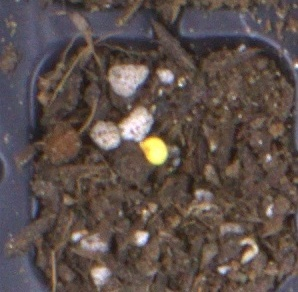chilli seed: (139, 136, 168, 165)
